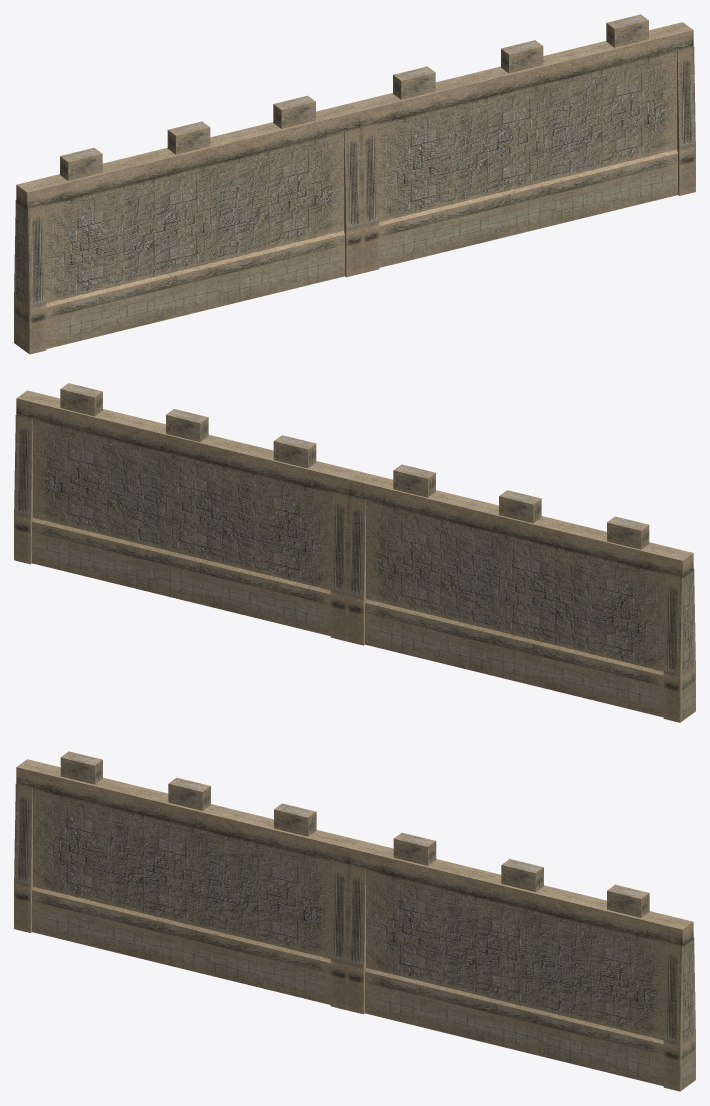
Rendered from desert-bigdam-03.glb.
3 renders of one model, top to bottom at view 1: azimuth 30°, elevation 25°; view 2: azimuth 150°, elevation 25°; view 3: azimuth 330°, elevation 25°, orthographic.
Parts seen in each view (by area): view 1: desert-bigdam-01; view 2: desert-bigdam-01; view 3: desert-bigdam-01.
Part boxes in pixels (x1=…): desert-bigdam-01: x1=14, y1=14, x2=695, y2=354; desert-bigdam-01: x1=14, y1=383, x2=695, y2=722; desert-bigdam-01: x1=14, y1=751, x2=695, y2=1091.
Bounding box in the file's own units: 20.01 × 5.14 × 0.8224.
Materials: 1 (1 with a texture image).
